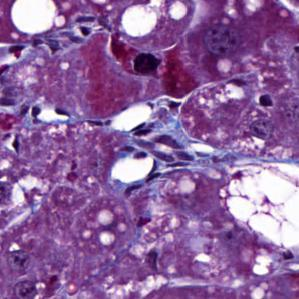ballooning: (221, 157, 296, 260)
